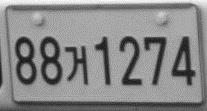1: (93, 35, 111, 86)
2: (118, 34, 142, 85)
4: (169, 34, 196, 86)
7: (143, 35, 167, 86)
8: (39, 36, 63, 84), (14, 36, 36, 85)
거: (64, 45, 88, 86)
